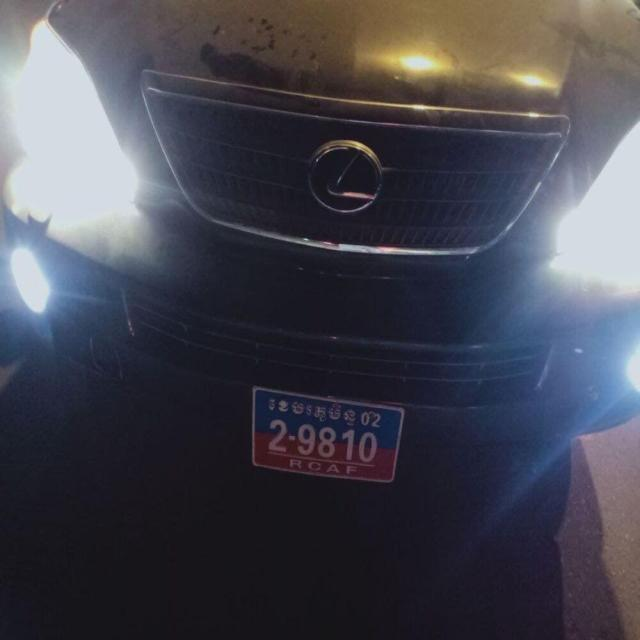RCAF: (269, 396, 356, 426)
